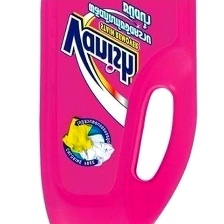cleaning_solution: (34, 0, 199, 223)
